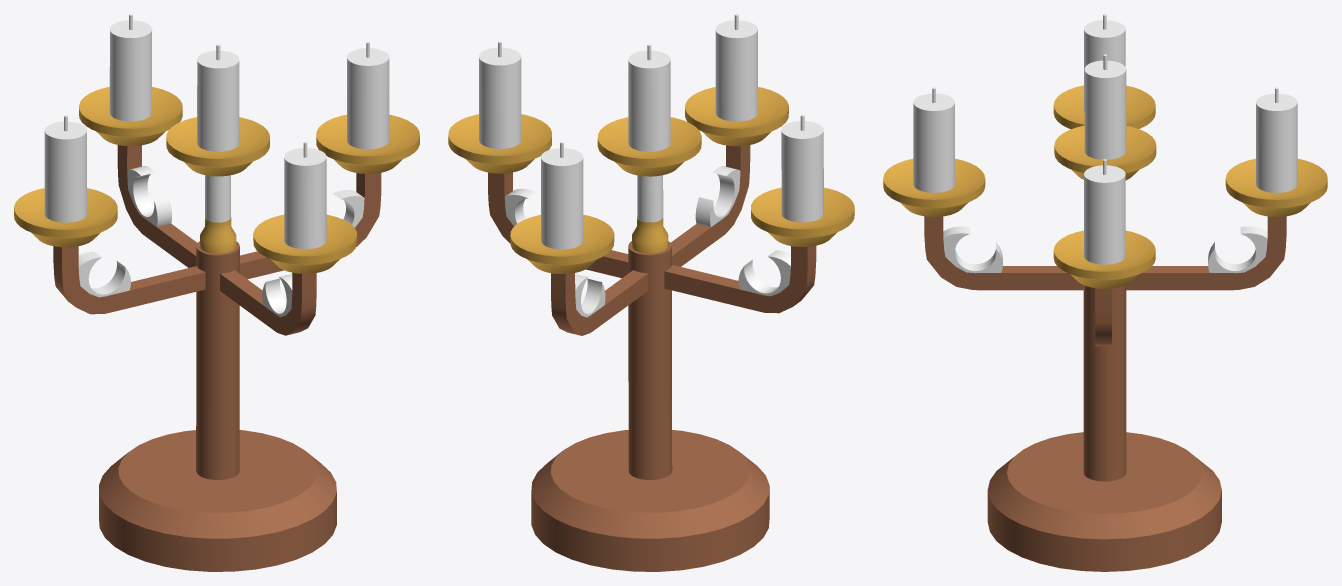
Rendered from M_Chandelier.fbx.
3 renders of one model, left to right at view 1: azimuth 30°, elevation 25°; view 2: azimuth 150°, elevation 25°; view 3: azimuth 270°, elevation 25°, orthographic.
Visible parts, largest first — view 1: Cylinder.017; view 2: Cylinder.017; view 3: Cylinder.017.
Part boxes in pixels (x1=…): Cylinder.017: x1=14, y1=14, x2=419, y2=571; Cylinder.017: x1=448, y1=14, x2=854, y2=571; Cylinder.017: x1=883, y1=14, x2=1327, y2=571.
Size of the model in its own units: 128 by 149 by 128.
